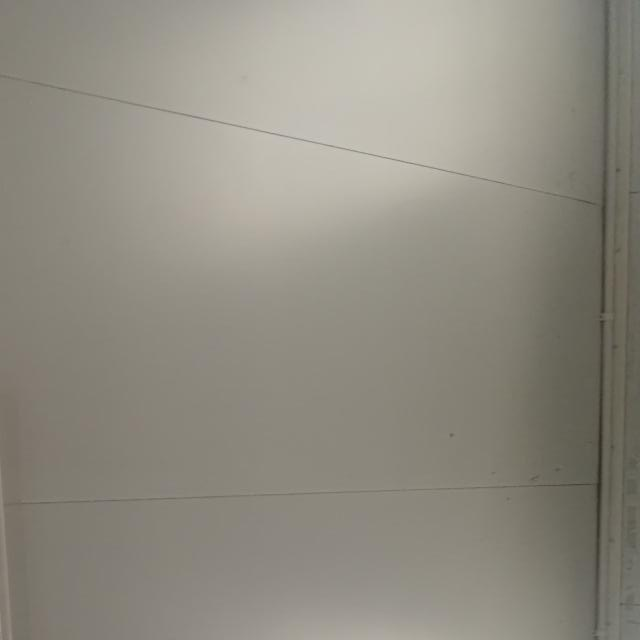fluorescent tube: (0, 365, 85, 640)
